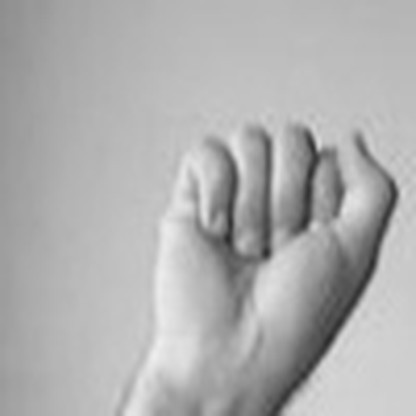a: (131, 99, 406, 397)
